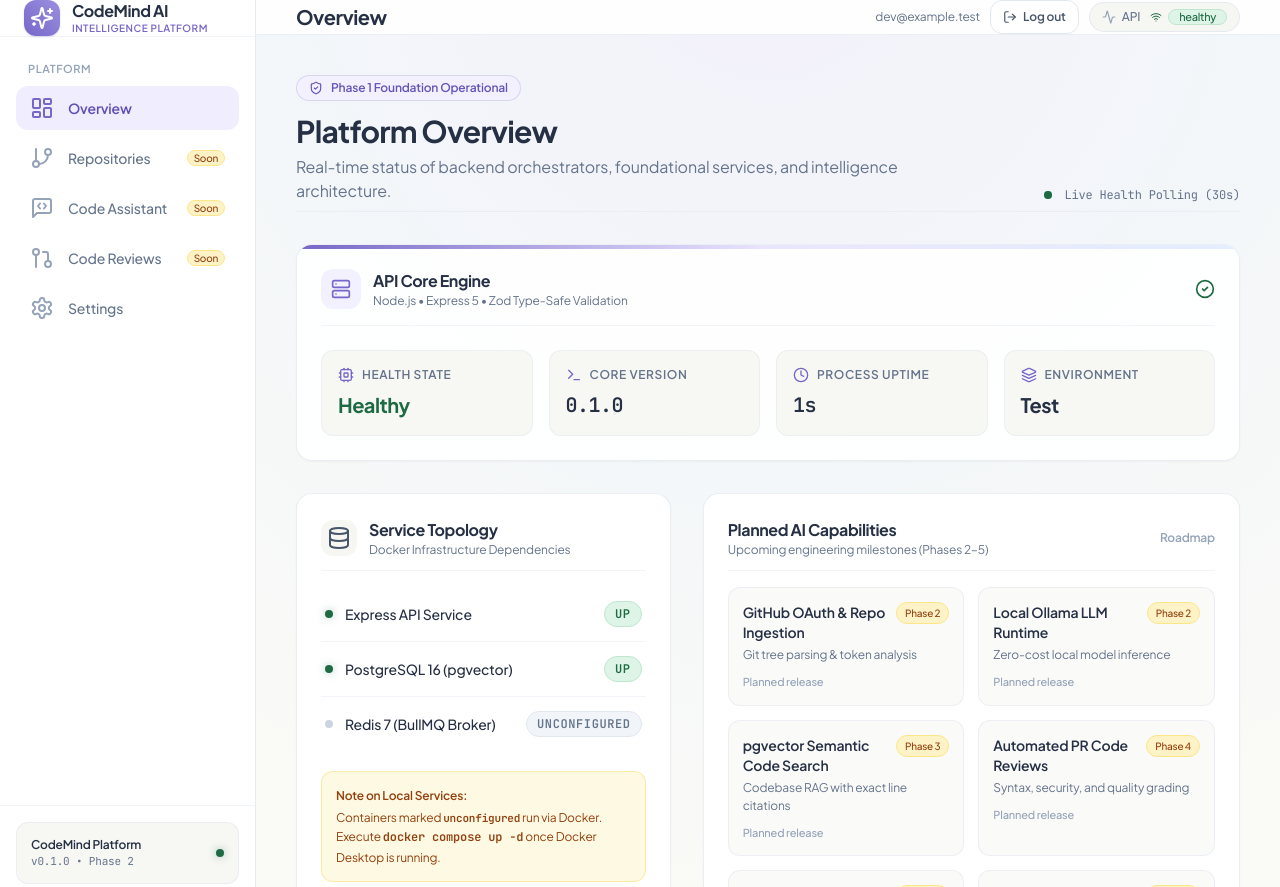
App › logs out and returns to the login screen
Step 1. Click the button "Log out" → (1034, 17), box [990, 0, 1079, 34]
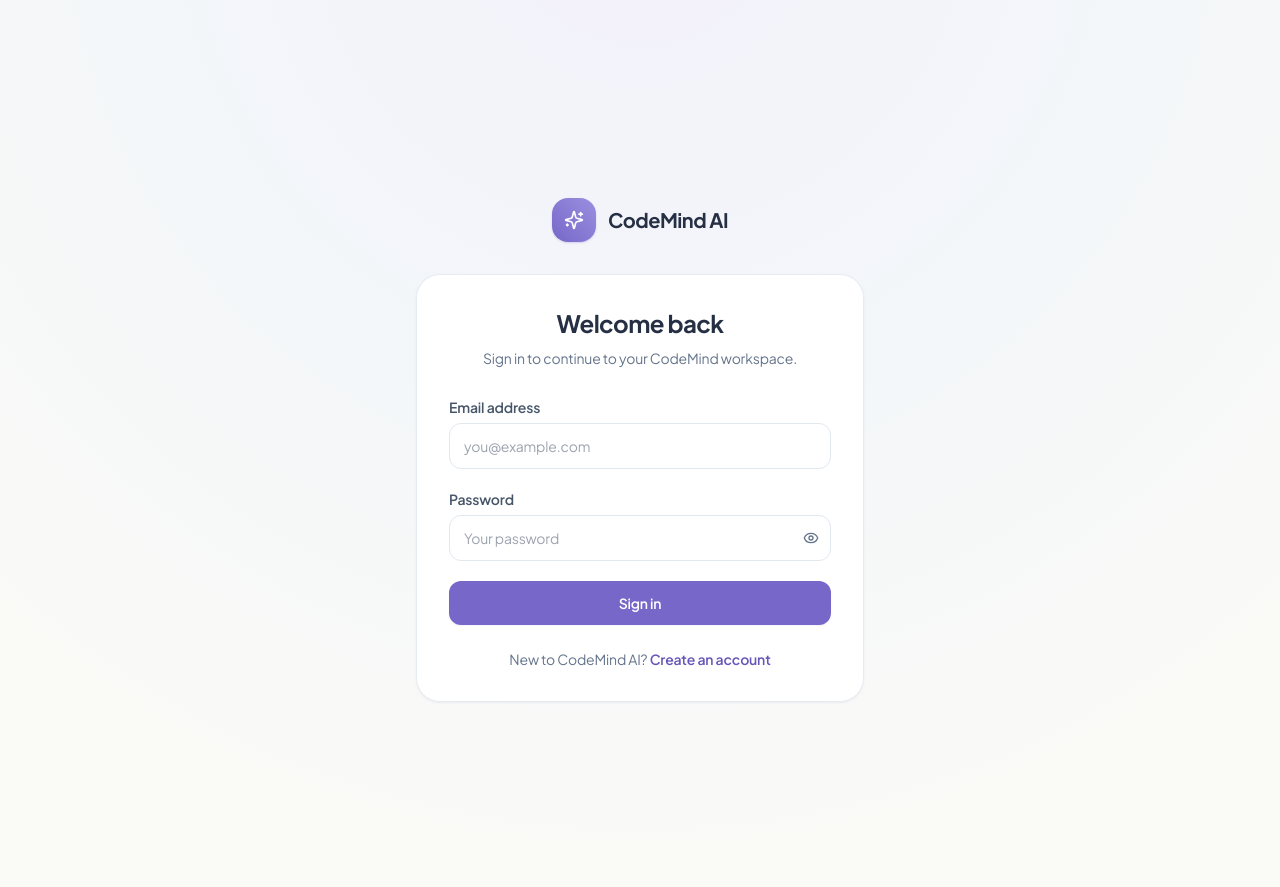
Expected: the heading "Welcome back" is shown, [556, 308, 724, 338]
